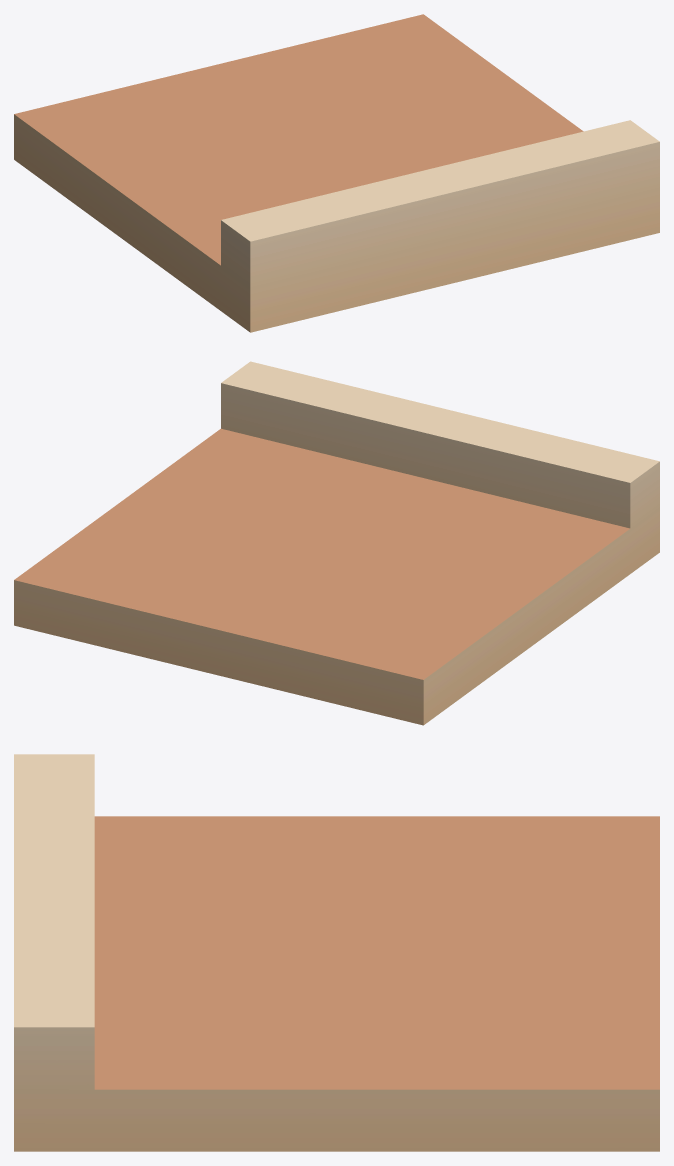
The model's file is kenney-modular-buildings-roof-flat-border-side.glb.
3 renders of one model, top to bottom at view 1: azimuth 30°, elevation 25°; view 2: azimuth 150°, elevation 25°; view 3: azimuth 270°, elevation 25°, orthographic. The views are drawn at different scales.
Visible parts, largest first — view 1: roof-flat-border-side; view 2: roof-flat-border-side; view 3: roof-flat-border-side.
Part boxes in pixels (left/top/right/bottom): roof-flat-border-side: left=14, top=14, right=659, bottom=332; roof-flat-border-side: left=14, top=361, right=659, bottom=725; roof-flat-border-side: left=14, top=754, right=659, bottom=1151.
Bounding box in the file's own units: 1 × 0.2125 × 1.
Materials: 1 (1 with a texture image).
